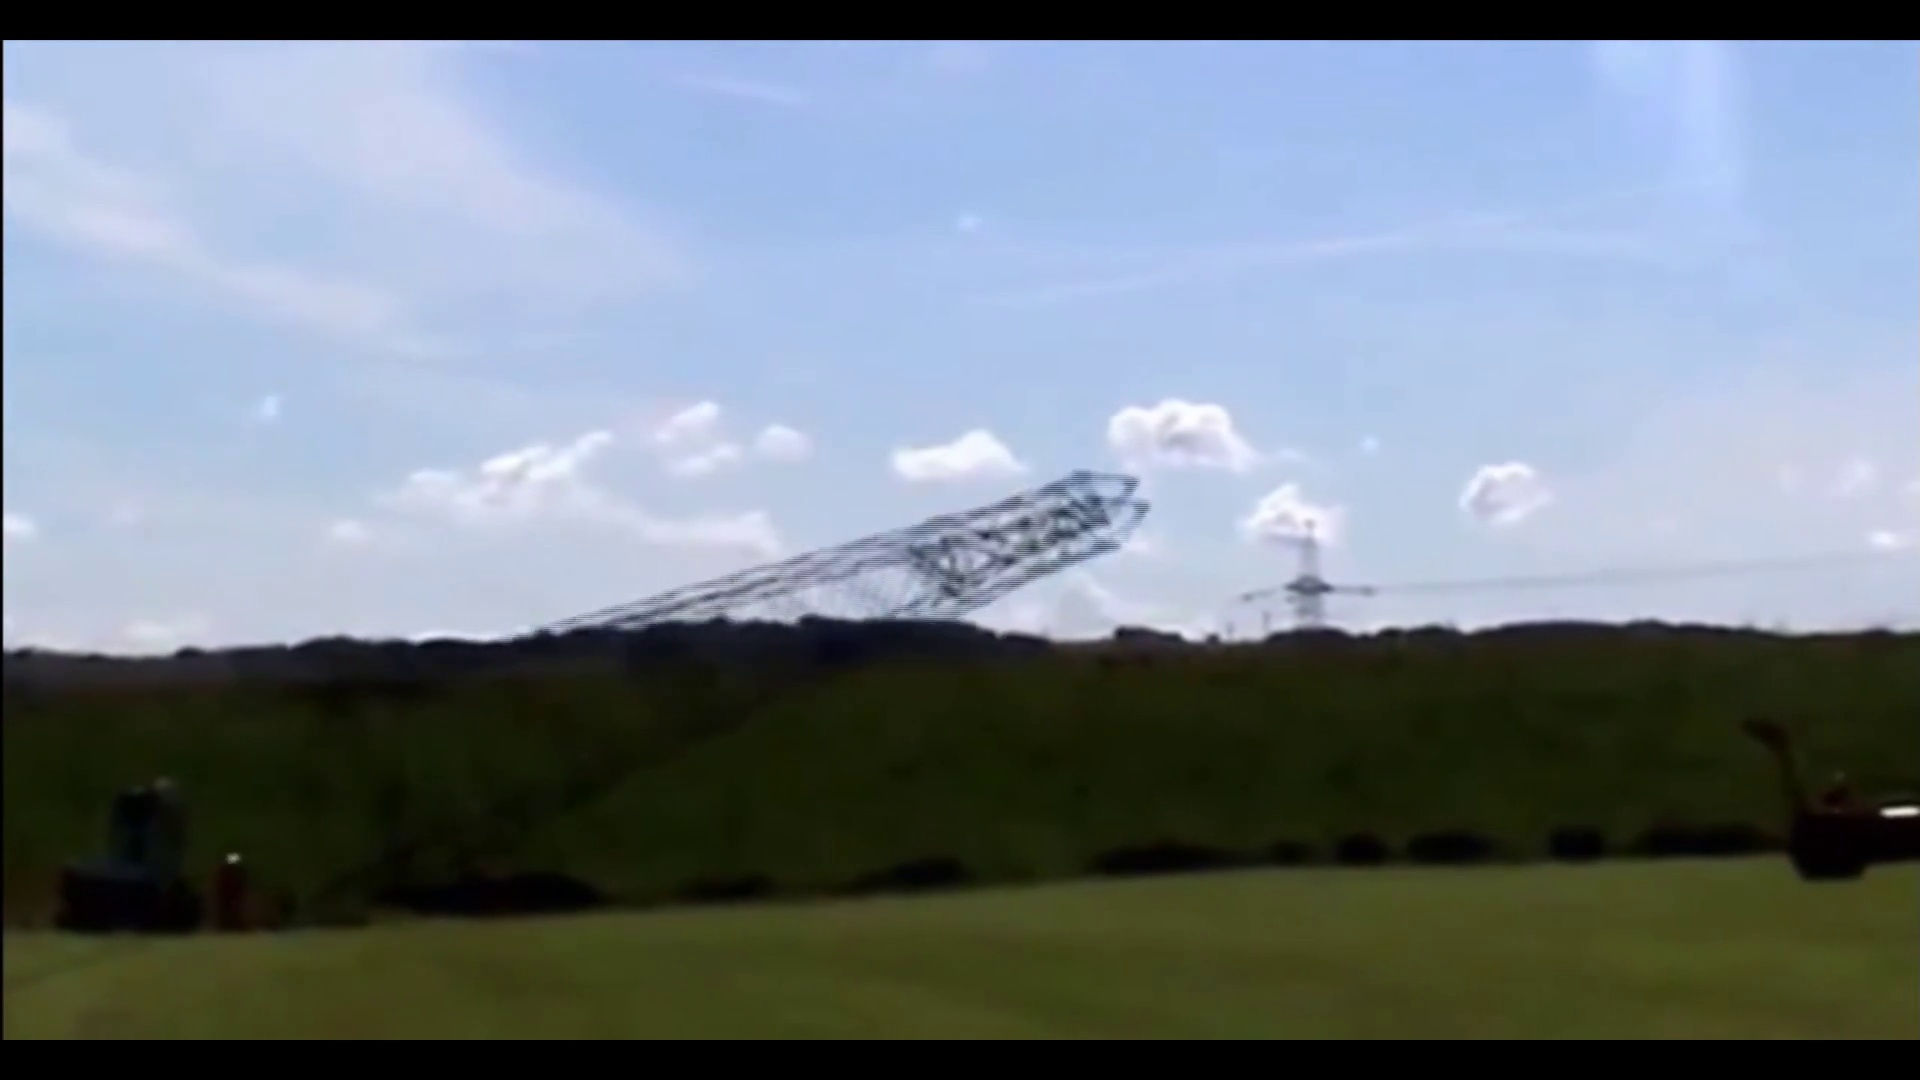tower_down: (535, 447, 1174, 641)
